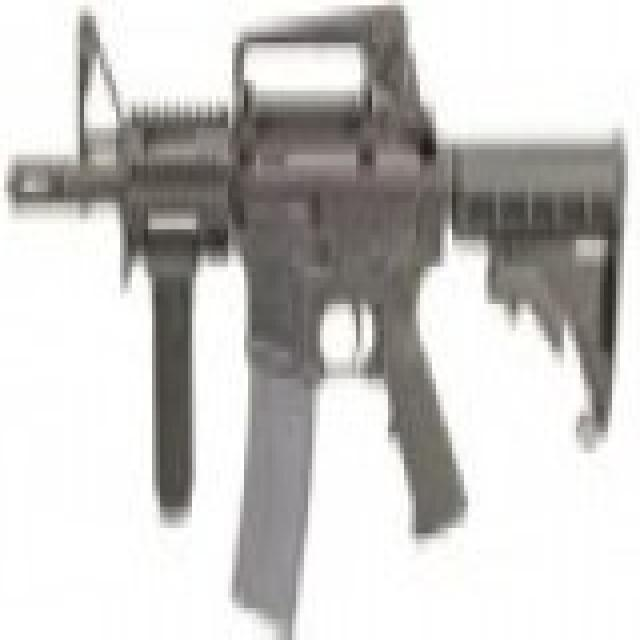Gun: (0, 5, 628, 640)
